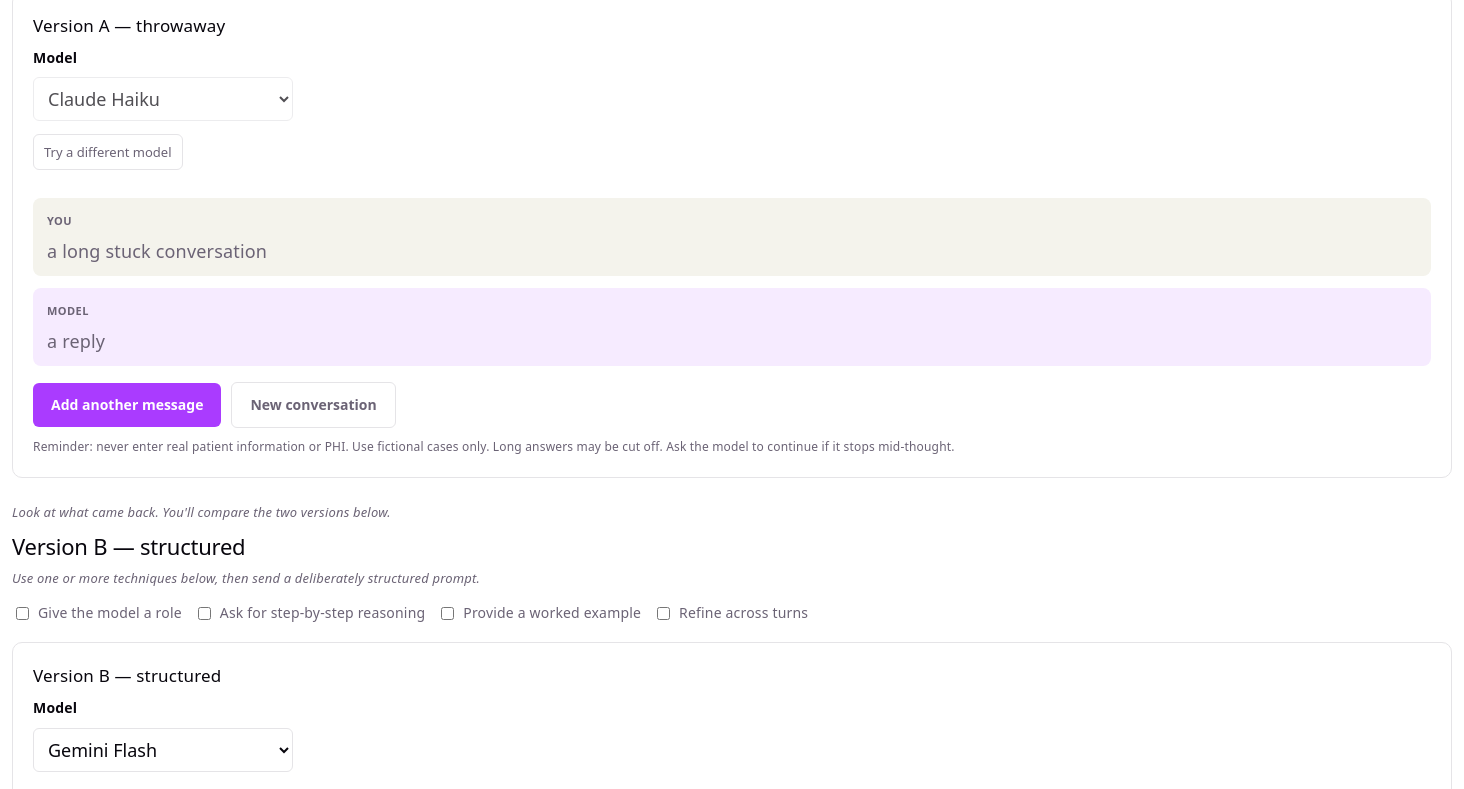
Test: Lab1 — New Conversation escape hatch › clears Version A's transcript when the student confirms starting over
(page scrolled)
Expected: the text "a long stuck conversation" is shown, left=47, top=239, right=267, bottom=263
Click the button "New conversation". click: (314, 405)
box: left=231, top=382, right=396, bottom=428
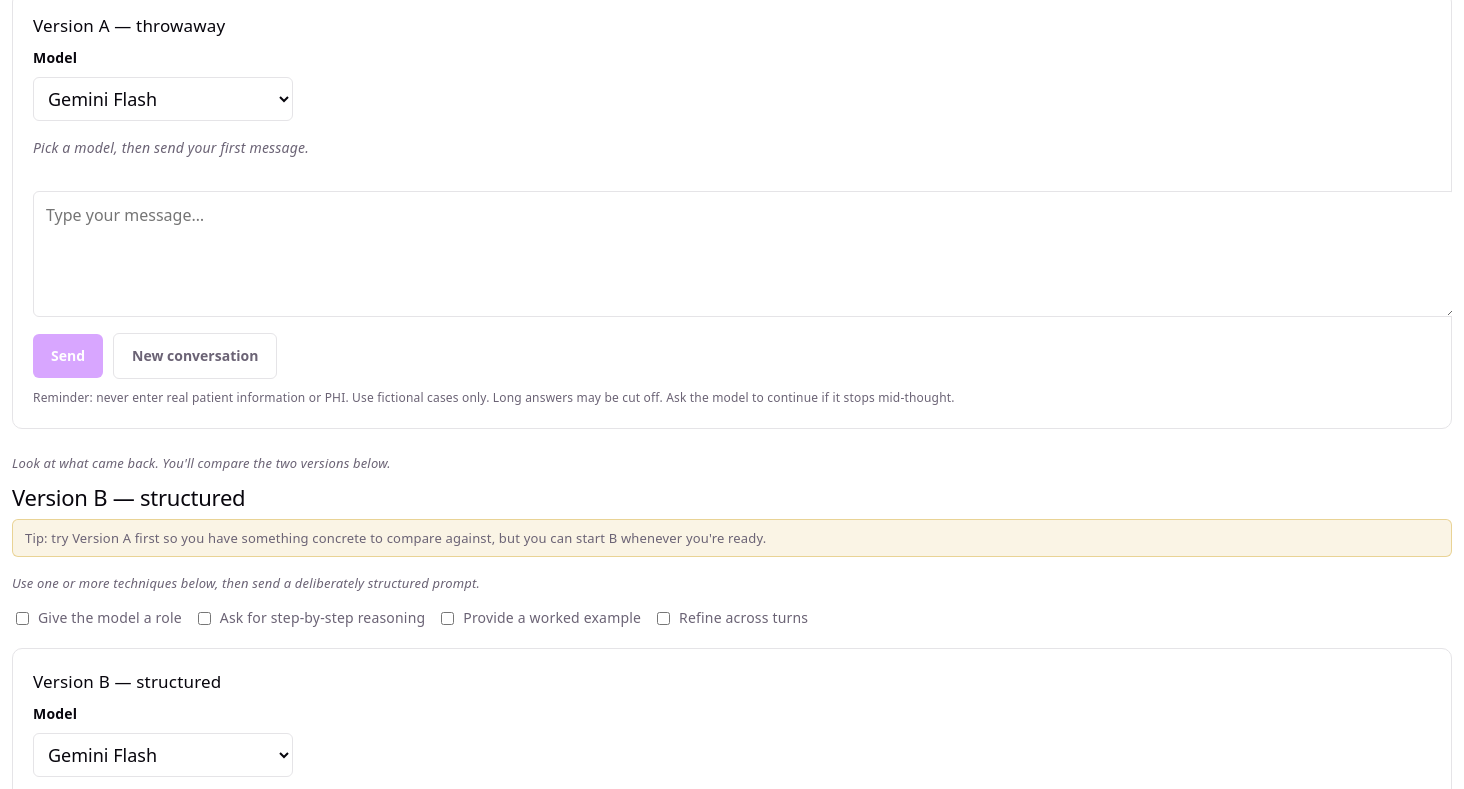
Result: the text "a long stuck conversation" is gone
Result: the 1st text "Pick a model, then send your first message." is shown at left=33, top=138, right=309, bottom=157
